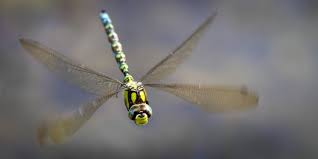insect: (18, 9, 256, 146)
